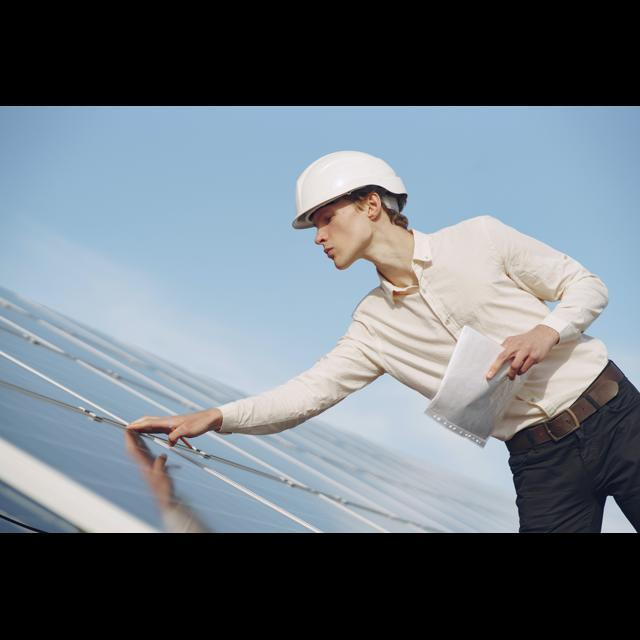Capacete: (292, 151, 406, 228)
